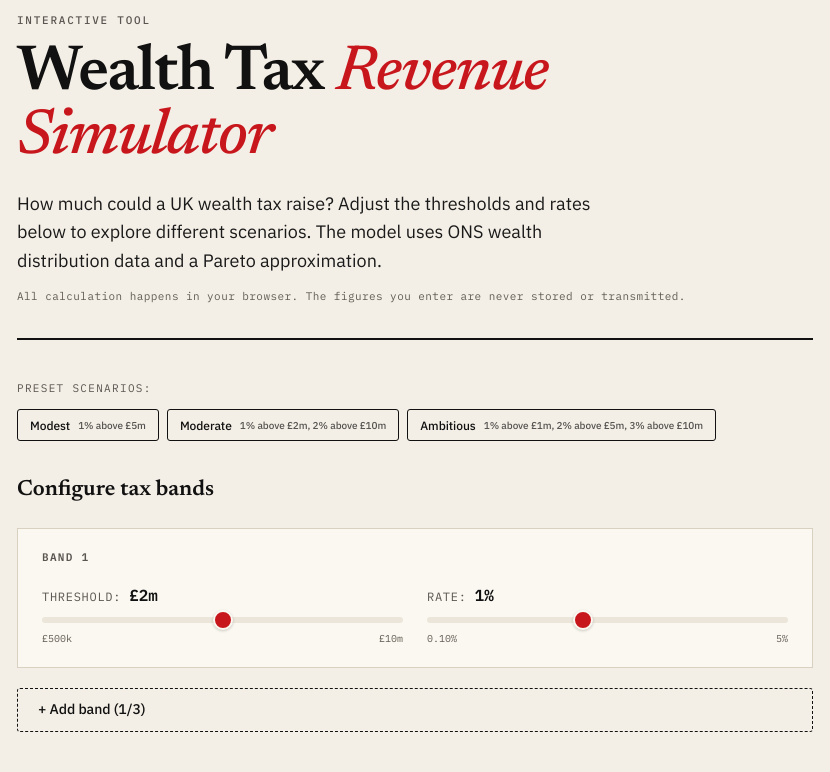
Test case: WealthTaxSimulator › preset buttons populate sliders and update results
Click "Ambitious" preset (3 bands)
Click the button "Ambitious 1% above £1m, 2% above £5m, 3% above £10m" at [562, 425], box [407,409,716,441]
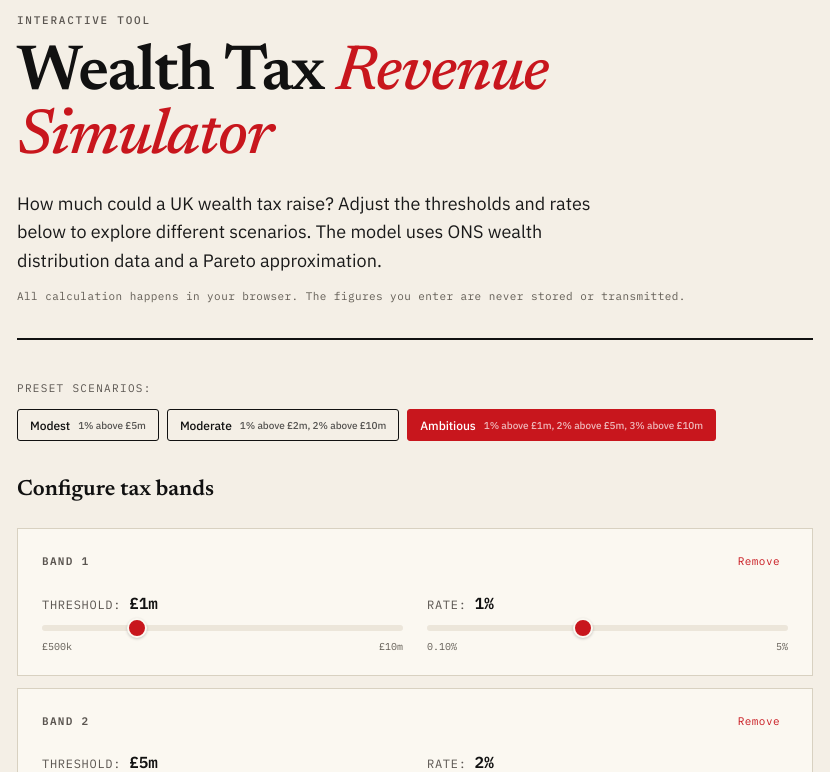
Expected: the number of elements with class "sim__band" is 3
